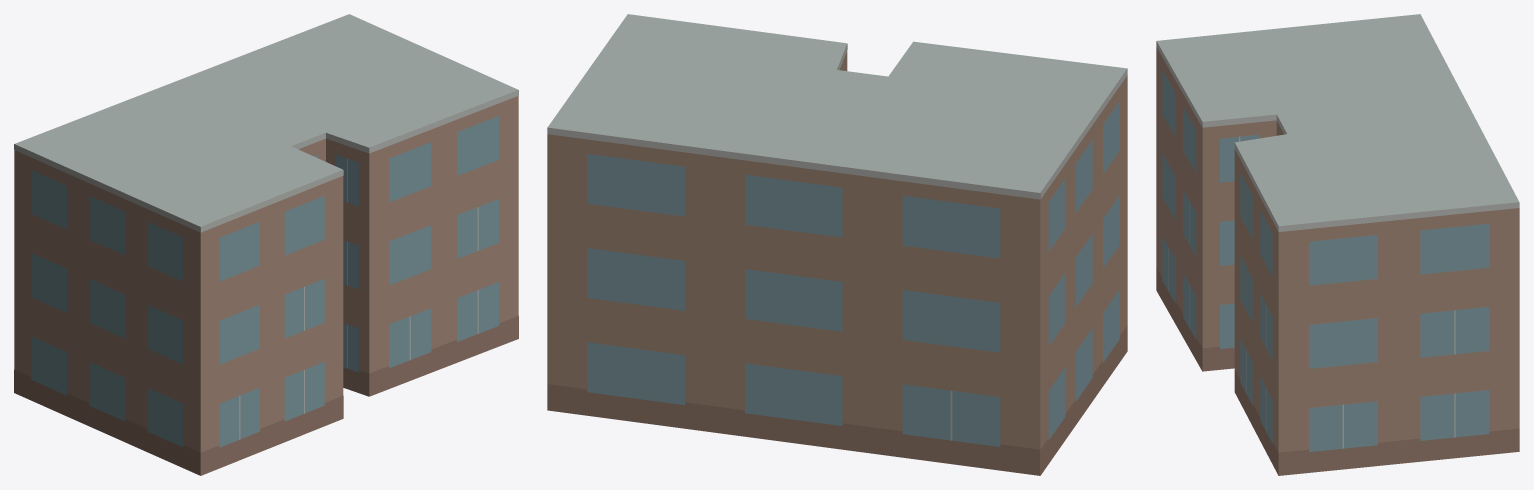
Rendered from survey-upis-32901951.glb.
3 renders of one model, left to right at view 1: azimuth 30°, elevation 25°; view 2: azimuth 150°, elevation 25°; view 3: azimuth 270°, elevation 25°, orthographic. The views are drawn at different scales.
Visible parts, largest first — view 1: survey-upis-32901951.tmp; view 2: survey-upis-32901951.tmp; view 3: survey-upis-32901951.tmp.
Part boxes in pixels (x1,y1,x2,y2): survey-upis-32901951.tmp: (14, 14, 518, 475); survey-upis-32901951.tmp: (547, 14, 1127, 475); survey-upis-32901951.tmp: (1156, 14, 1519, 475).
Size of the model in its own units: 19.16 by 10.5 by 13.85.
